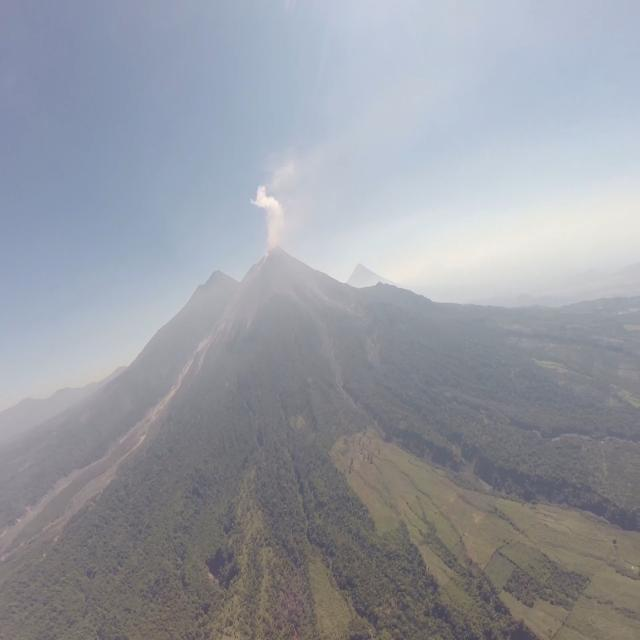Plume: (252, 183, 293, 244)
Summit: (263, 242, 288, 262)
